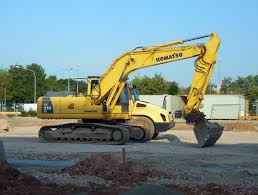excavator: (36, 32, 223, 149)
